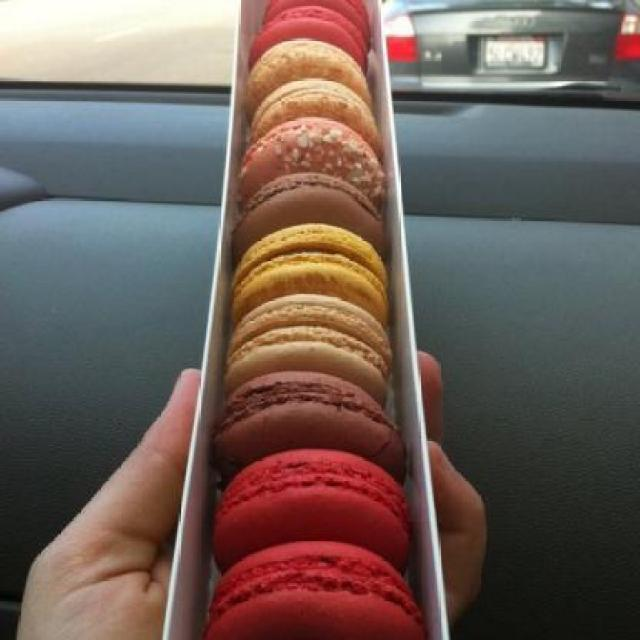Macaron: (206, 1, 429, 640)
